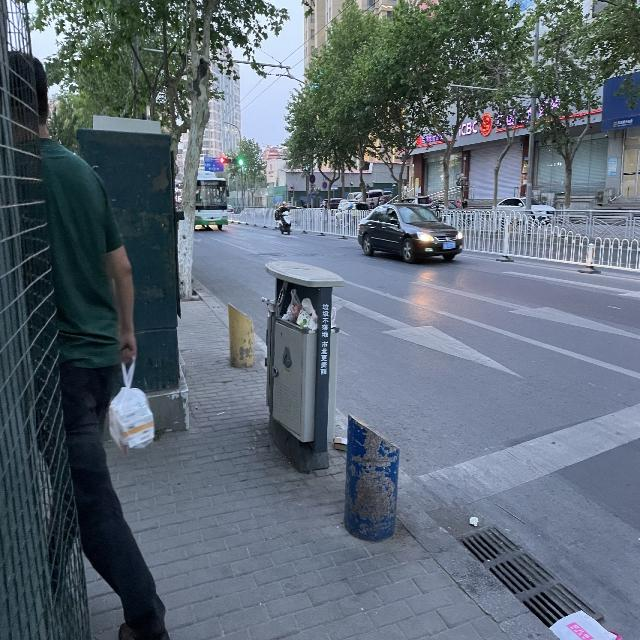overflow: (260, 258, 344, 471)
